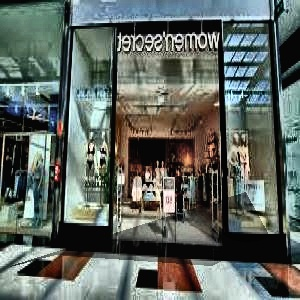women_secret: (164, 14, 279, 42)
